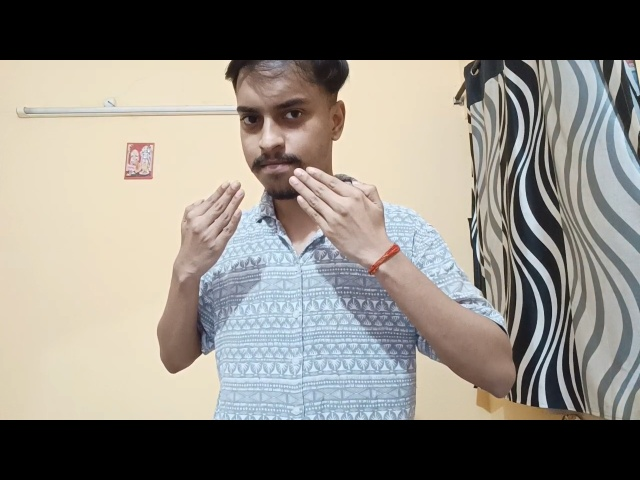Thank you: (157, 164, 449, 360)
